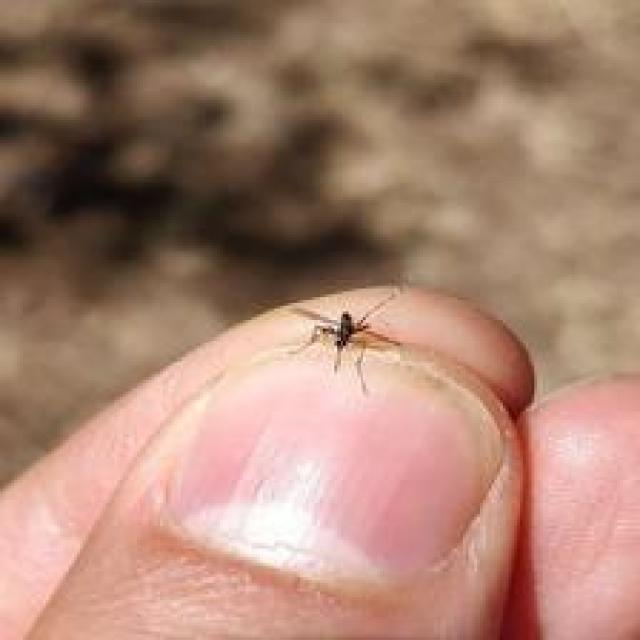Aedes albopictus: (286, 283, 406, 394)
